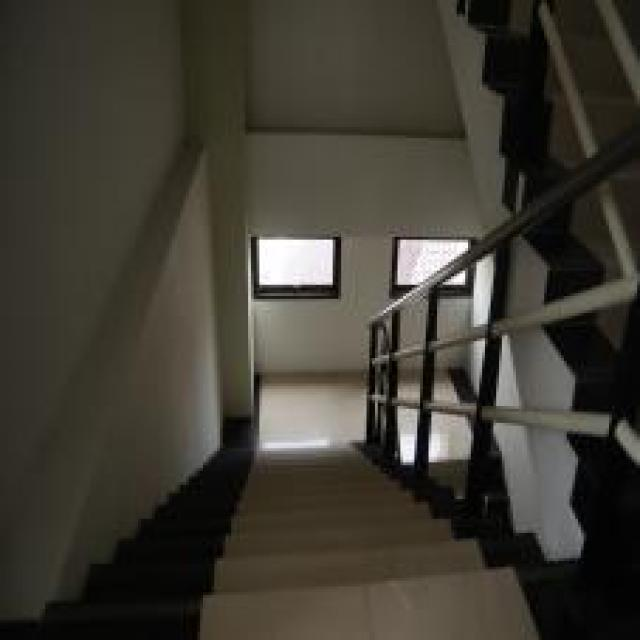downstair: (139, 424, 427, 638)
